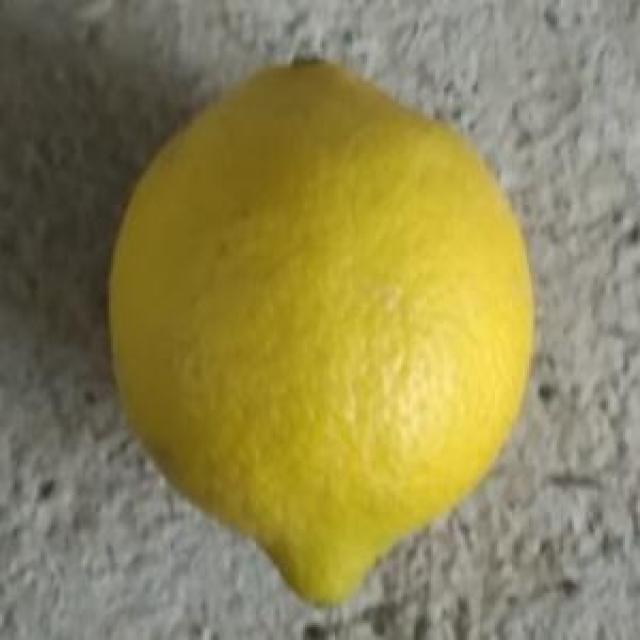lemon: (100, 53, 546, 610)
